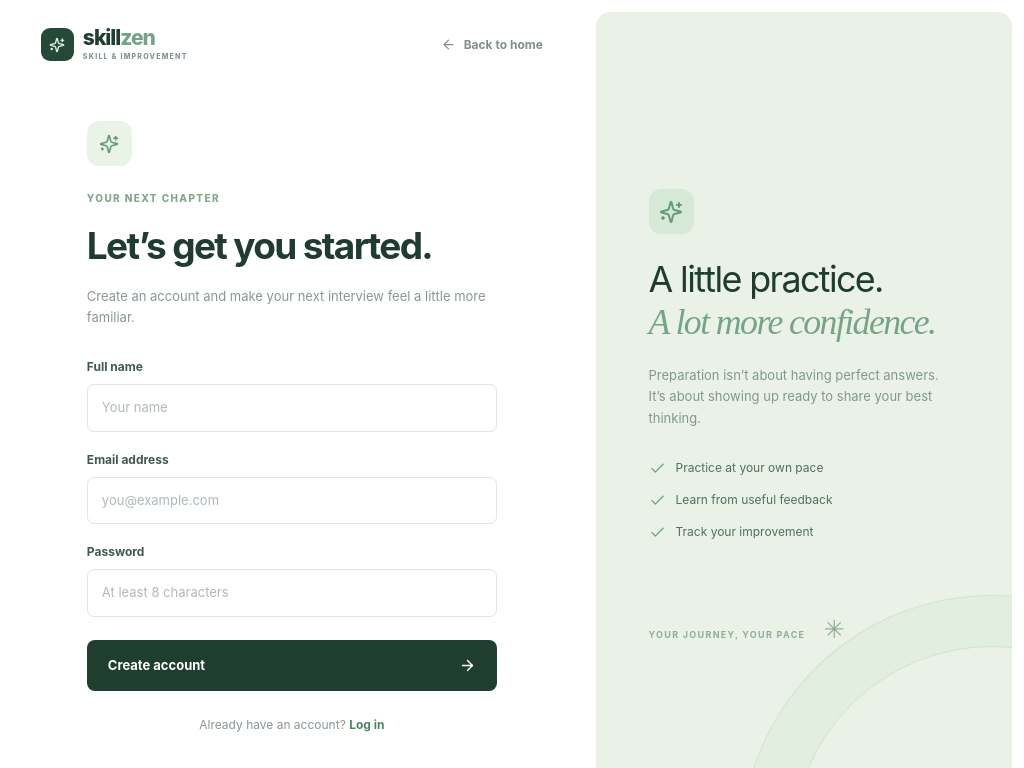
Scenario: frontend pages › registers using the cookie-based API and navigates to the dashboard
In the field labelled "Full name": x=292, y=408 [87,384,497,432], type "Ada Lovelace"
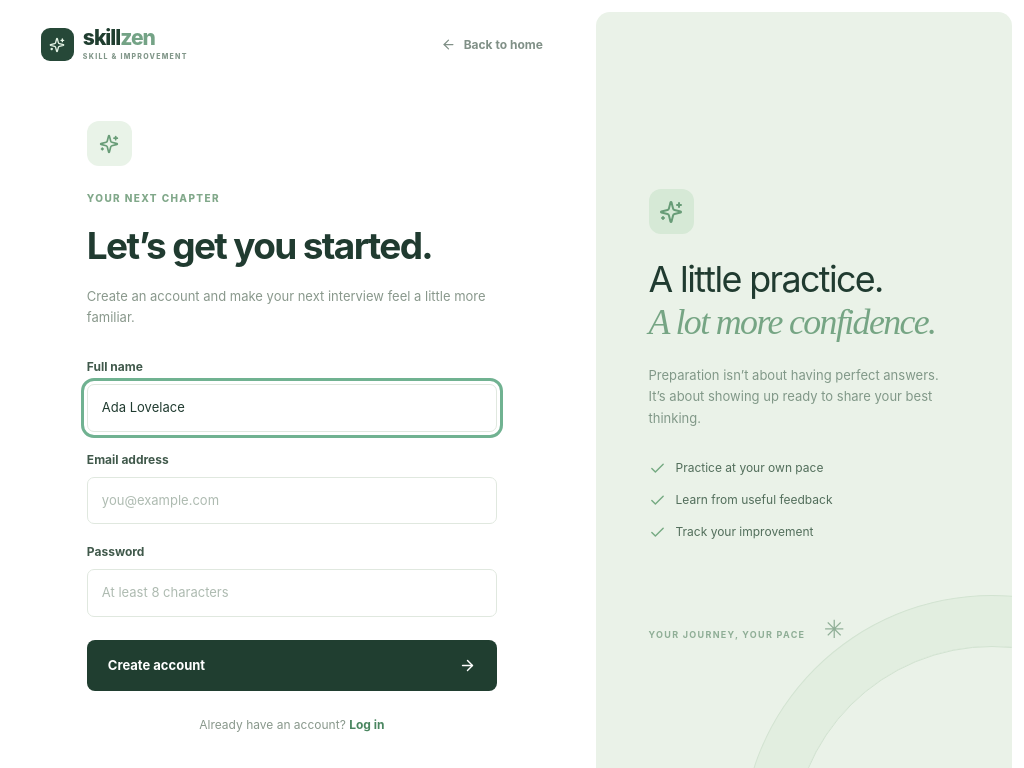
In the field labelled "Email address": x=292, y=501 [87,477,497,524], type "ada@example.com"
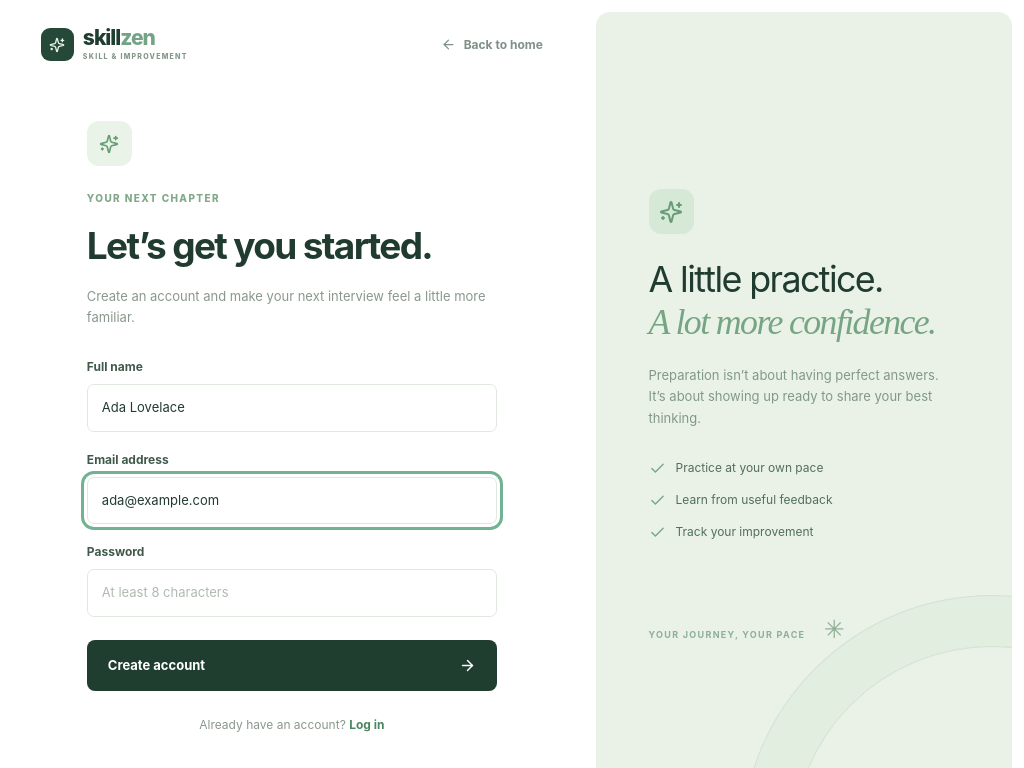
In the password field labelled "Password": x=292, y=593 [87,569,497,617], type "password123"
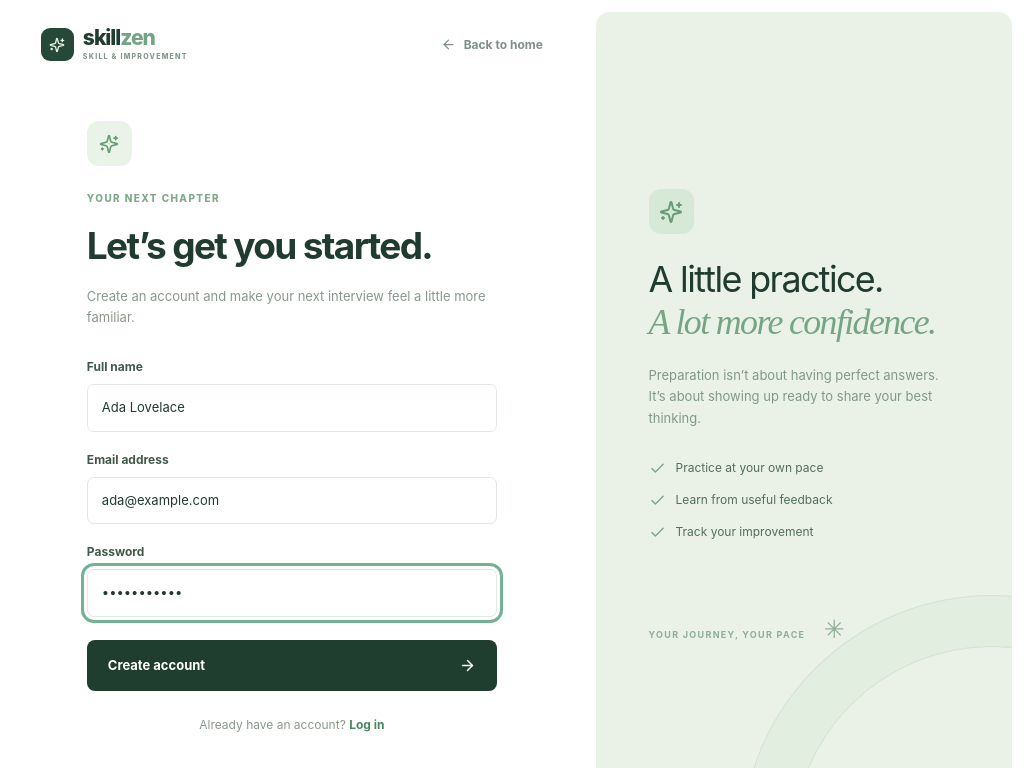
Click the button "Create account": x=156, y=665 [87,640,497,691]
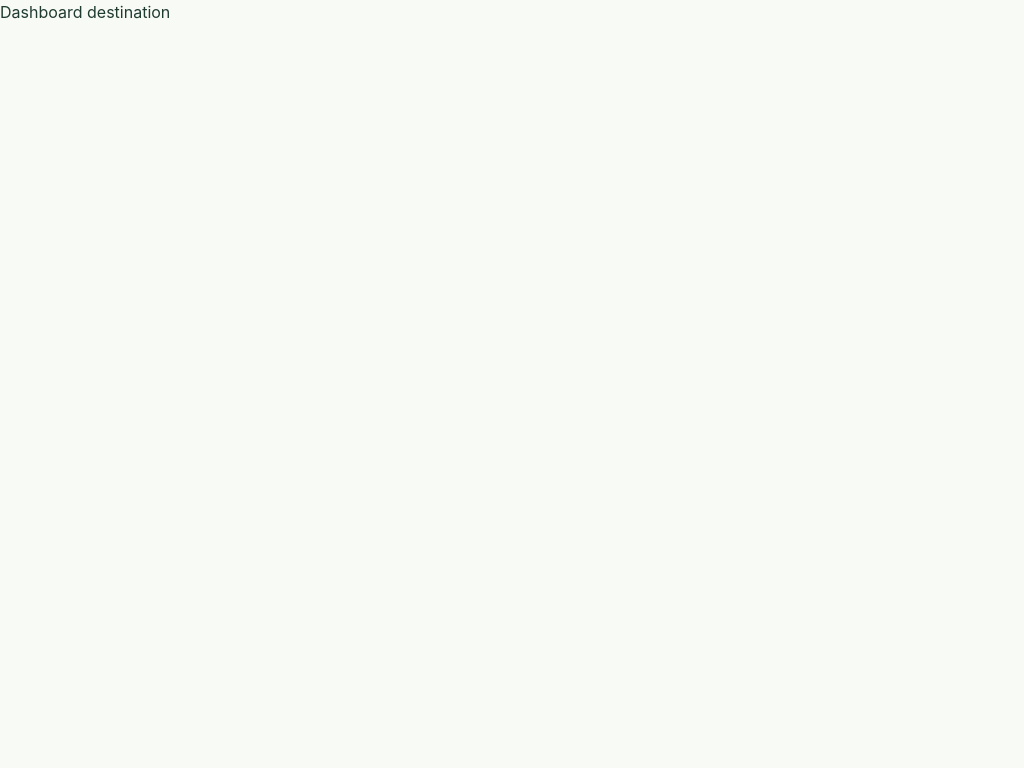
Now the text "Dashboard destination" is shown, box [0,2,170,22]
